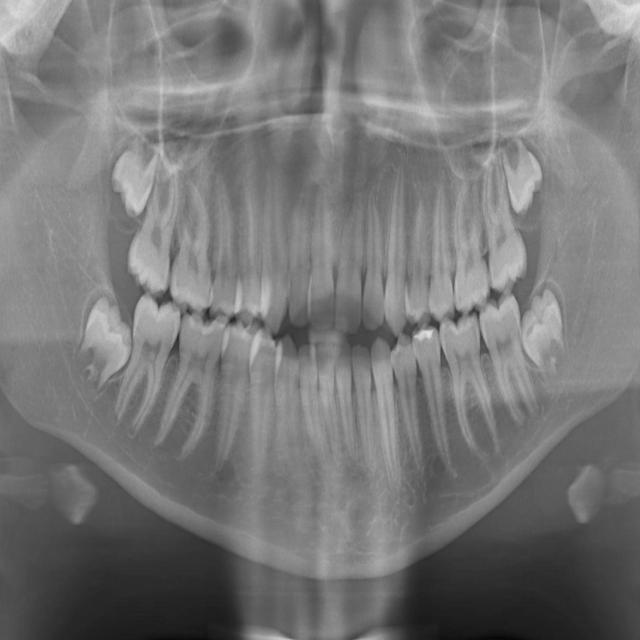3M ESPE Implant: (102, 115, 169, 220)
AGS Medikal Implant: (474, 290, 545, 434)
AMerOss Implant: (435, 310, 504, 467)
Amalgam filling: (122, 155, 181, 301)
Anthogyr Implant: (410, 321, 468, 486)
Bicon Implant: (391, 331, 427, 487)
BioHorizons Implant: (369, 335, 405, 502)
BioLife Implant: (350, 341, 383, 473)
Biomet 3i Implant: (332, 341, 359, 466)
Blue Sky Bio Implant: (313, 341, 347, 476)
Camlog Implant: (290, 341, 339, 482)
Caries: (363, 180, 384, 332)
Composite filling: (269, 332, 308, 488)
Cowellmedi Implant: (248, 329, 276, 487)
Crown: (210, 320, 253, 479)
DENTSPLY Implant: (183, 196, 197, 235)
Dentatus Implant: (151, 295, 228, 467)
Dentis Implant: (106, 290, 185, 445)
Dentium Implant: (61, 292, 147, 407)
Euroteknika Implant: (208, 307, 209, 308)
Filling: (239, 314, 240, 315)
Frontier Implant: (260, 149, 291, 334)
Hiossen Implant: (385, 156, 409, 338)
Implant: (309, 164, 337, 333)
Implant Direct: (285, 156, 316, 330)
Keystone Dental Implant: (333, 183, 365, 339)
MIS Implant: (409, 200, 435, 328)
Mandible: (419, 175, 456, 323)
Maxilla: (442, 170, 493, 315)
Megagen Implant: (492, 164, 497, 206)
Neodent Implant: (498, 129, 550, 219)
Neoss Implant: (512, 285, 578, 397)
